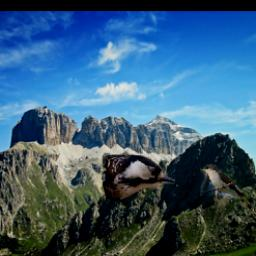Cuckoo: (200, 165, 256, 215)
Woodpecker: (103, 150, 175, 201)
